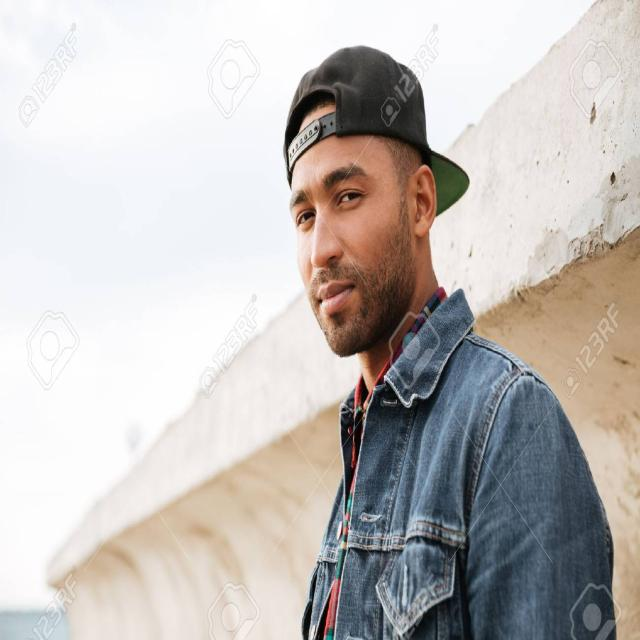cap: (284, 43, 471, 358)
